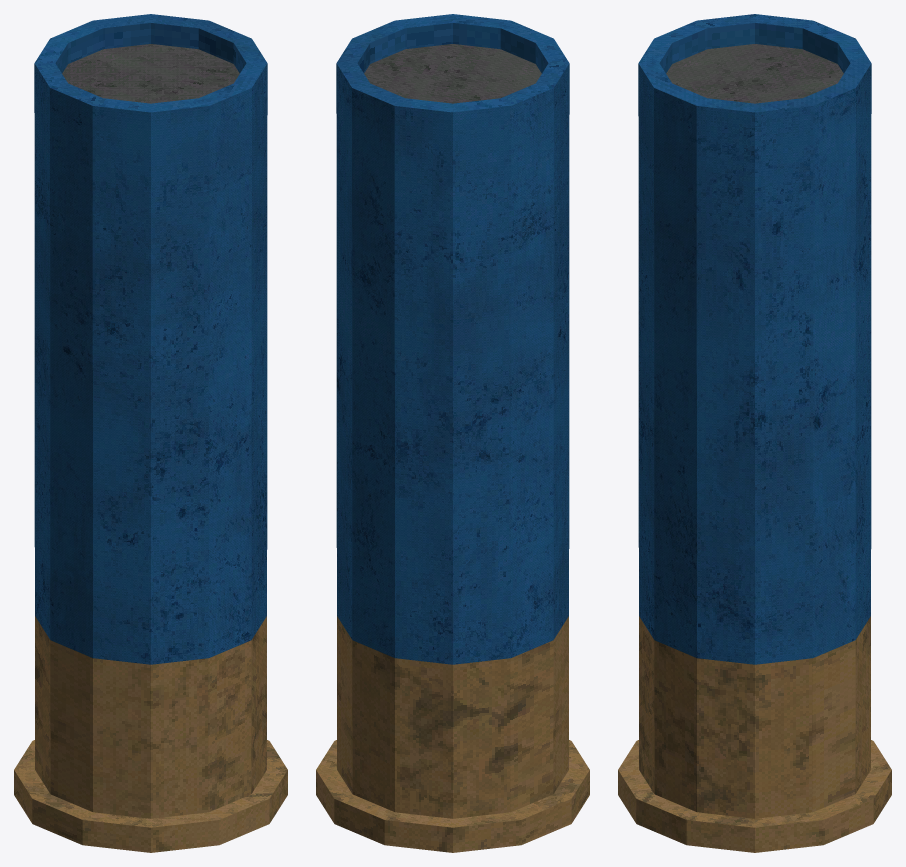
Rendered from single shell main1.glb.
3 views of the same model, side by side, from view 1: azimuth 30°, elevation 25°; view 2: azimuth 150°, elevation 25°; view 3: azimuth 270°, elevation 25° (orthographic).
Visible parts, largest first — view 1: shell parent, shell cap; view 2: shell parent, shell cap; view 3: shell parent, shell cap.
Boxes of the visible parts, x1,y1,x2,y2 form: shell parent: (14,14,287,852); shell cap: (62,44,239,103); shell parent: (316,14,589,852); shell cap: (364,44,541,103); shell parent: (618,14,891,852); shell cap: (666,44,843,103).
Size of the model in its own units: 0.3884 by 1.15 by 0.3884.
Materials: 3 (3 with a texture image).
